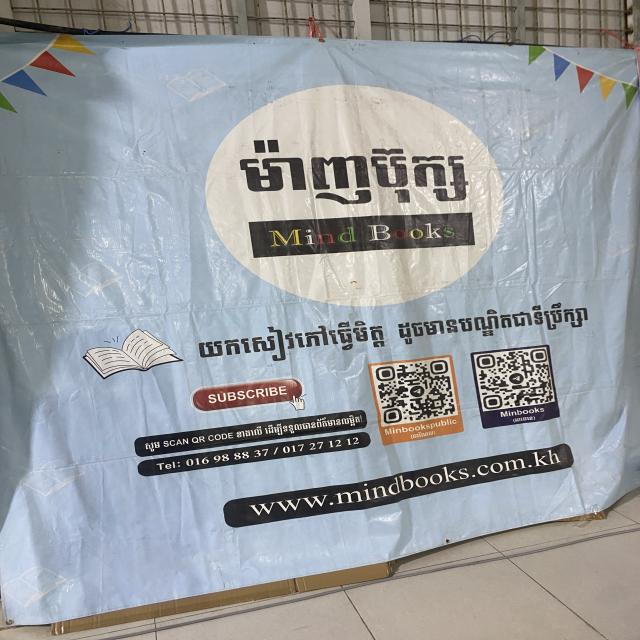1: (192, 297, 596, 374), (234, 411, 366, 442)
318: (182, 433, 363, 469)
Yolov11_80vkh: (227, 139, 478, 213), (408, 428, 437, 442), (142, 440, 162, 454), (512, 415, 539, 424)
